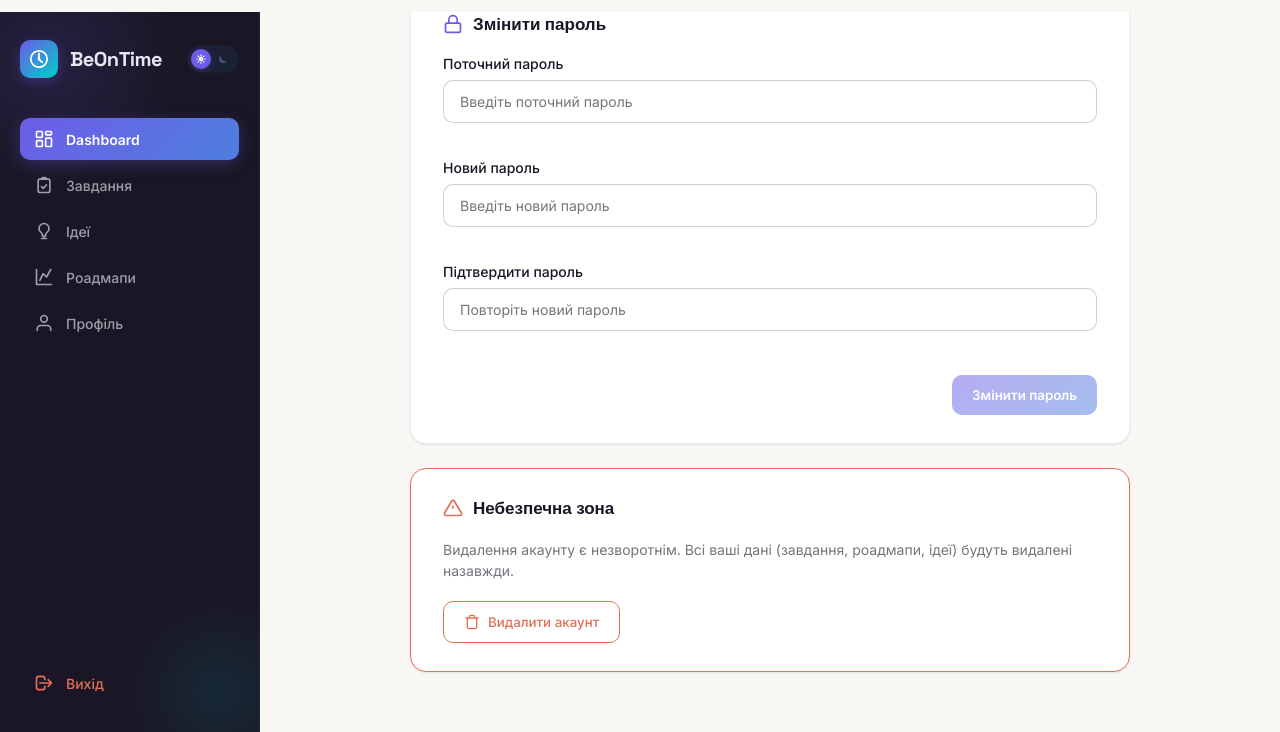
Test: ProfilePage Component › повинен скасовувати видалення акаунту
(page scrolled)
Click the button "Видалити акаунт" at point(532, 622), box [443, 601, 620, 643]
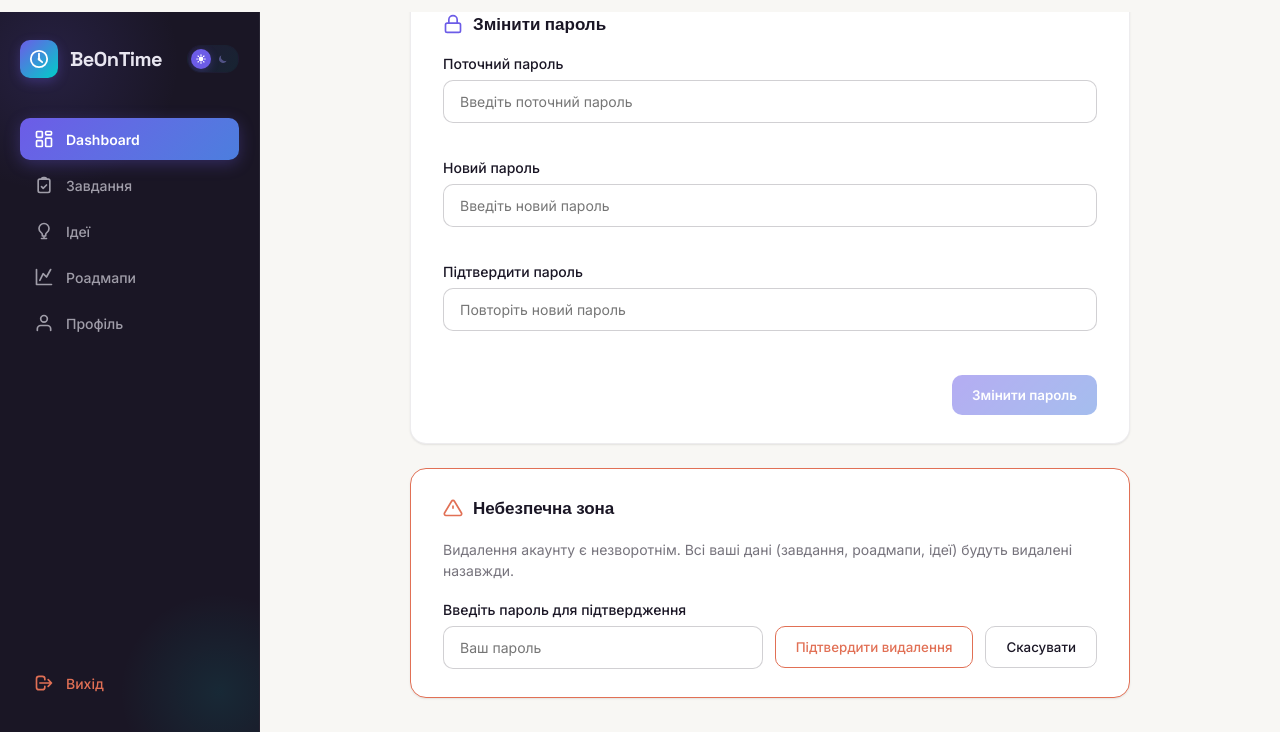
Result: the button "Підтвердити видалення" is shown at [775, 626, 973, 668]
Click the button "Скасувати" at point(1041, 647), box [985, 626, 1097, 668]
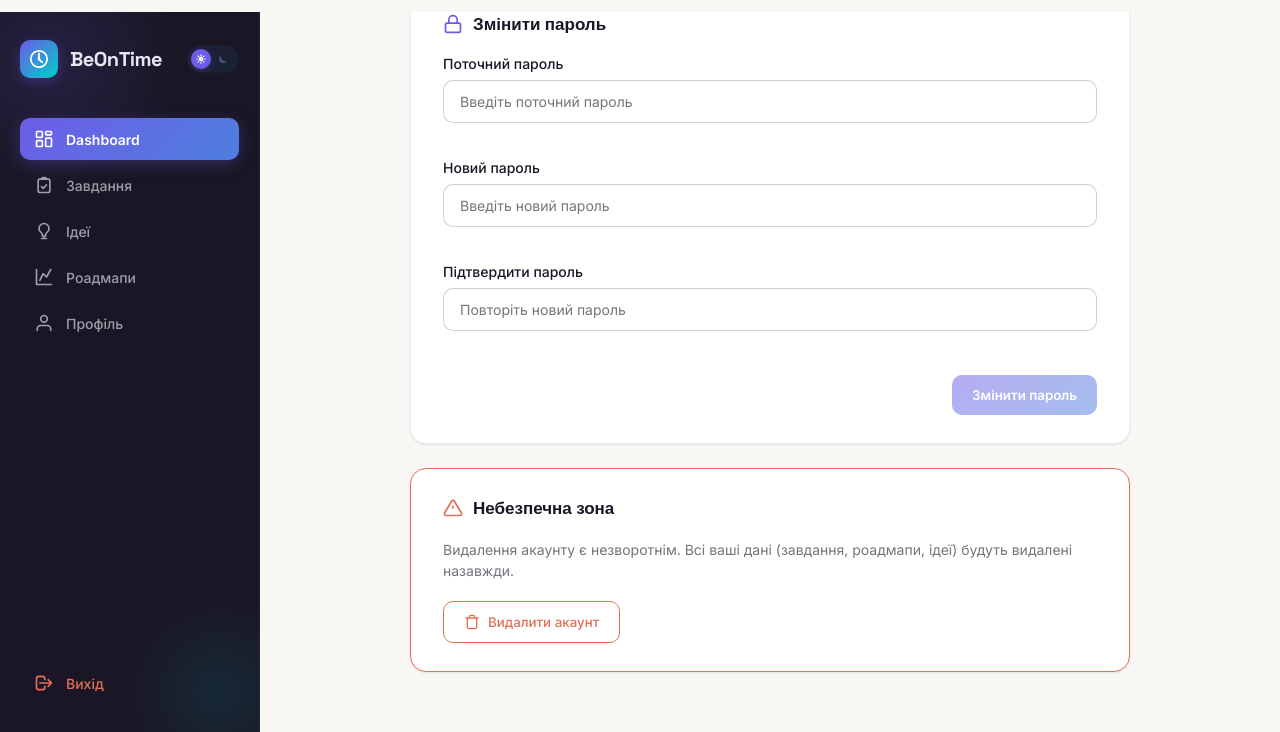
Result: the button "Підтвердити видалення" is gone
